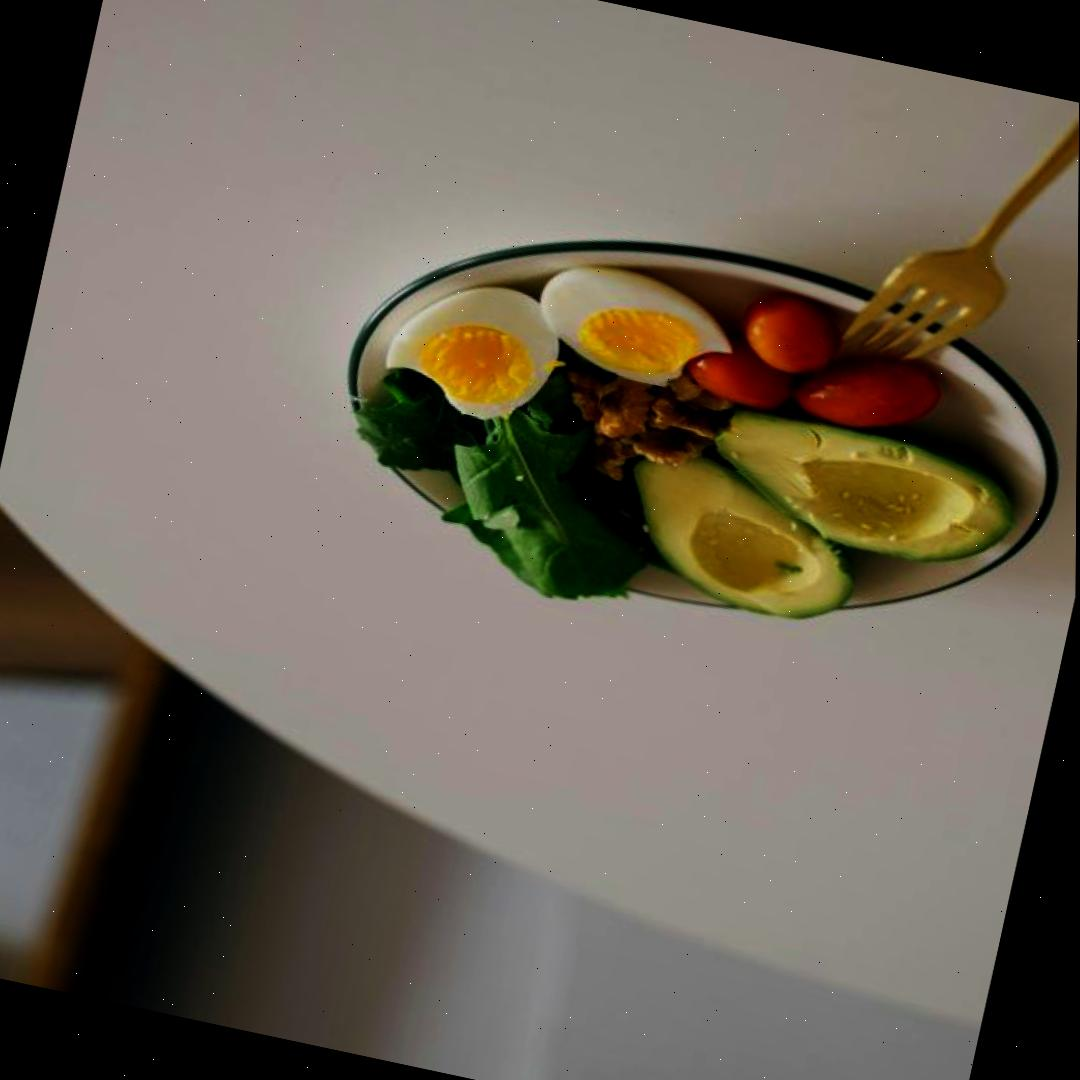matang: (792, 340, 945, 442), (675, 326, 802, 414), (735, 286, 848, 382)
